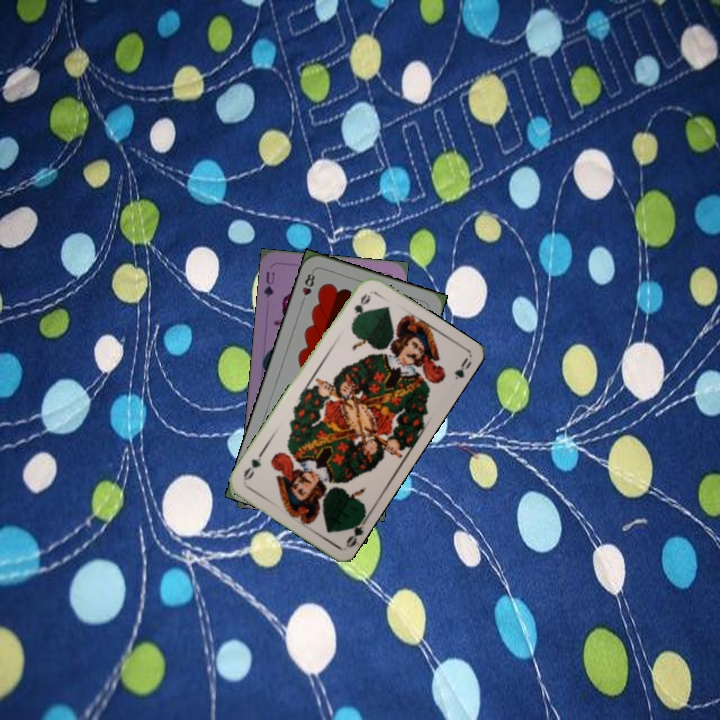GO: (342, 512, 370, 550), (348, 289, 373, 326)
GU: (260, 268, 277, 300)
H8: (297, 267, 318, 307)
